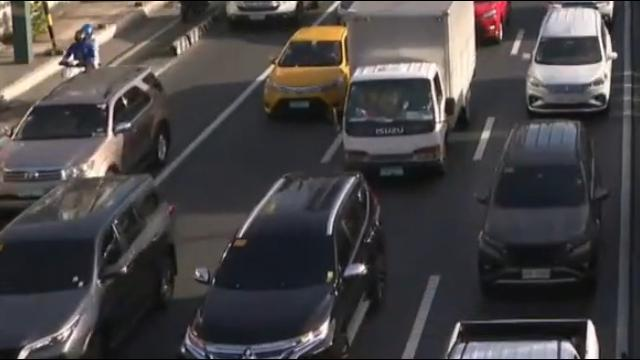car: (178, 173, 389, 360), (0, 67, 174, 209), (476, 125, 610, 304), (524, 8, 620, 110), (262, 23, 355, 123), (225, 1, 305, 29), (549, 1, 616, 31), (473, 1, 512, 45)
motorcycle: (62, 23, 105, 86)
truck: (341, 0, 488, 170)
van: (0, 178, 177, 360)
